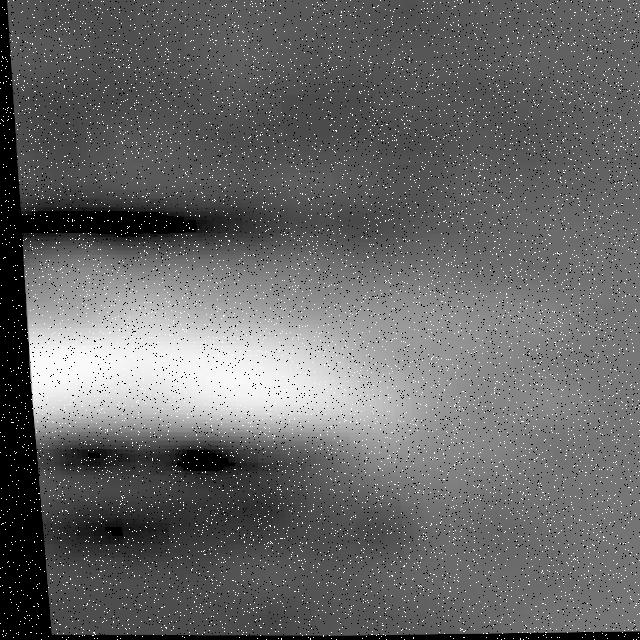person: (16, 231, 563, 501)
